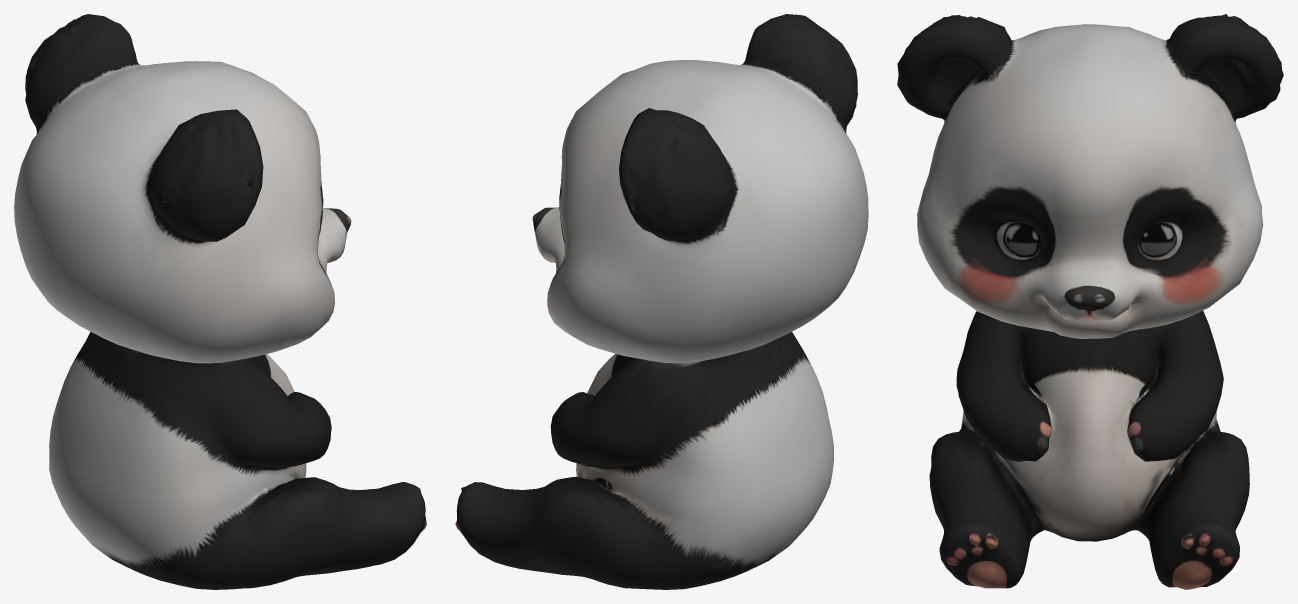
Rendered from Tinkle Panda.glb.
3 renders of one model, left to right at view 1: azimuth 30°, elevation 25°; view 2: azimuth 150°, elevation 25°; view 3: azimuth 270°, elevation 25°, orthographic.
Parts seen in each view (by area): view 1: tripo_node_deb0b343-e818-4199-9ca5-f2a4c1b3a48c_0; view 2: tripo_node_deb0b343-e818-4199-9ca5-f2a4c1b3a48c_0; view 3: tripo_node_deb0b343-e818-4199-9ca5-f2a4c1b3a48c_0.
Boxes of the visible parts, x1,y1,x2,y2 form: tripo_node_deb0b343-e818-4199-9ca5-f2a4c1b3a48c_0: (14, 14, 426, 589); tripo_node_deb0b343-e818-4199-9ca5-f2a4c1b3a48c_0: (455, 14, 868, 589); tripo_node_deb0b343-e818-4199-9ca5-f2a4c1b3a48c_0: (897, 14, 1283, 589).
Size of the model in its own units: 0.6852 by 0.9932 by 0.7129.
Materials: 1 (1 with a texture image).
